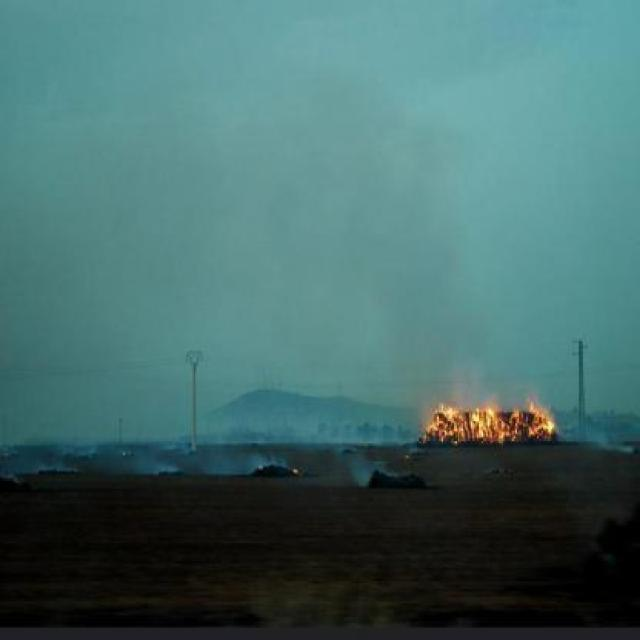Fire: (402, 376, 578, 470)
Smoke: (26, 74, 454, 380)
